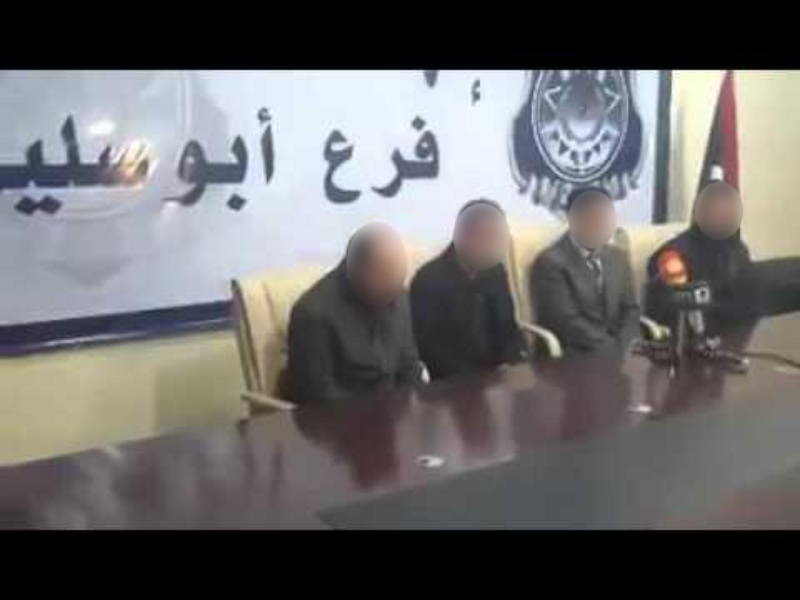text: (1, 112, 16, 226), (17, 112, 32, 226), (33, 112, 48, 226), (49, 112, 64, 226), (65, 112, 80, 226), (81, 112, 96, 226), (97, 112, 112, 226), (113, 112, 128, 226), (129, 112, 144, 226), (161, 101, 176, 214), (177, 101, 192, 214), (193, 101, 208, 214), (209, 101, 224, 214), (225, 101, 240, 214), (241, 101, 256, 214), (257, 101, 272, 214), (321, 114, 336, 206), (337, 114, 352, 206), (353, 114, 368, 206), (369, 114, 384, 206), (385, 114, 400, 206), (401, 114, 416, 206), (417, 114, 432, 206), (309, 114, 320, 206), (433, 114, 444, 206), (273, 101, 281, 214), (145, 112, 149, 226), (157, 101, 160, 214)
